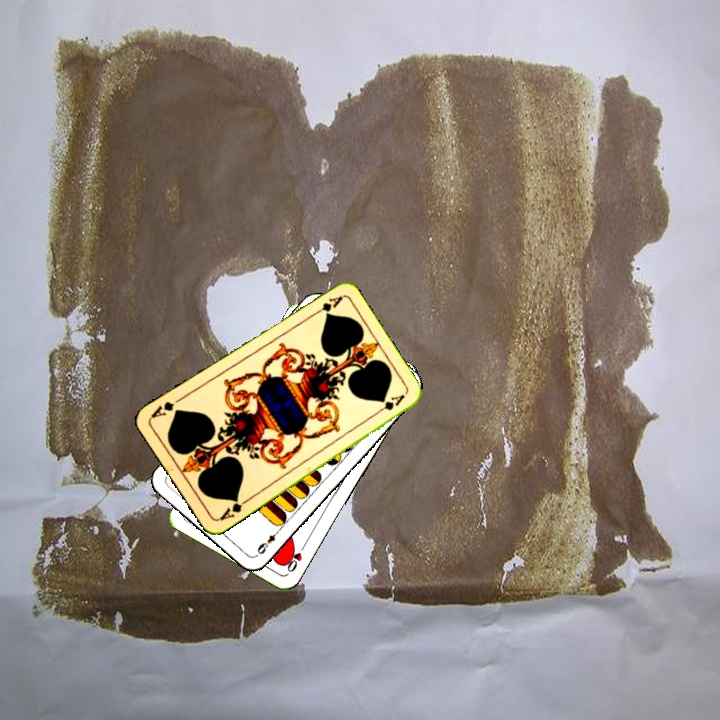E9: (252, 525, 283, 558)
GA: (307, 292, 345, 319), (216, 494, 251, 523)
HO: (283, 538, 309, 575)
